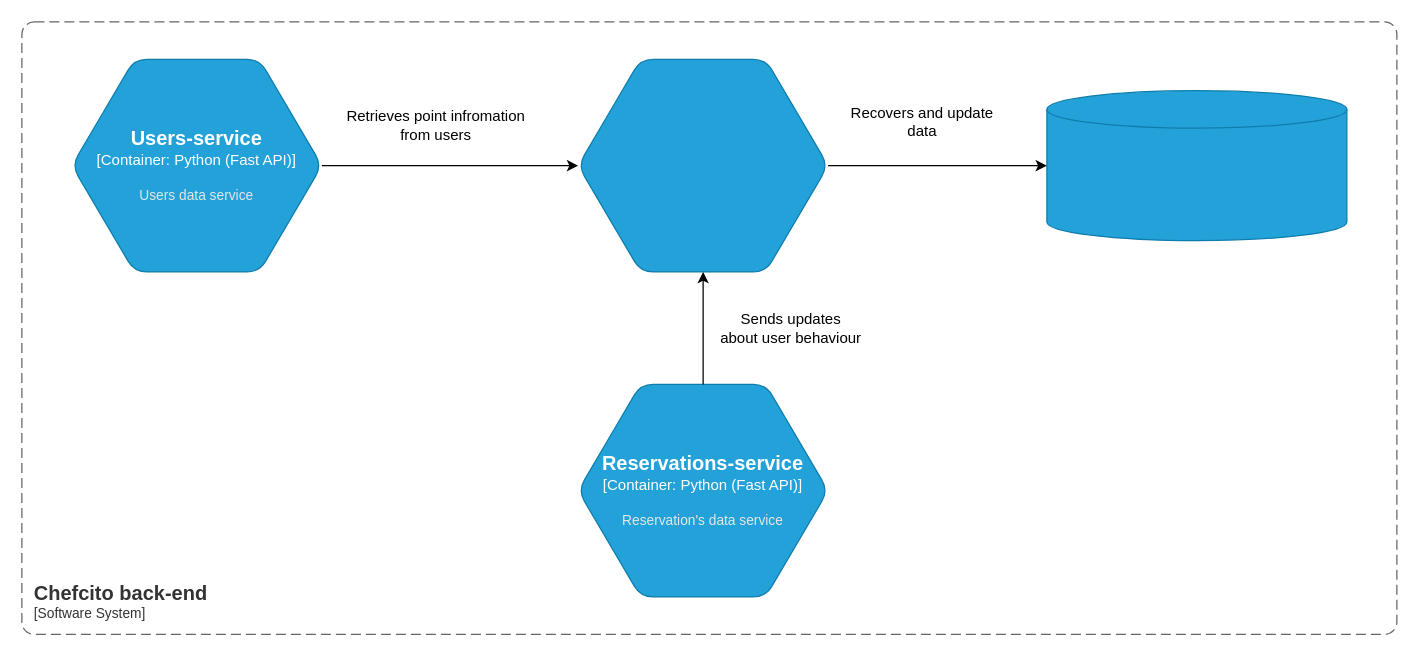
This 1419x656 diagram has some shape labels left out. Here are the shapes that lost their labels. From the top down, the centre of each, then its label:
the point at 702,165: Points-service [Container: Python (Fast API)] Point system management service
the point at 1196,165: Data-DB [Container: Mongo DB] Tables storing users point information
